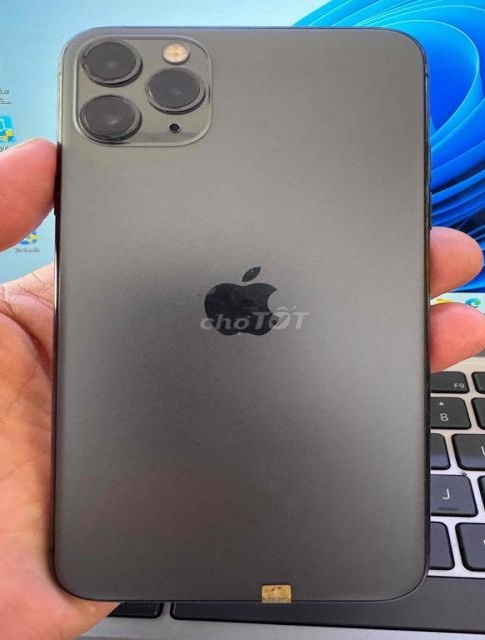scratch: (73, 28, 210, 148)
